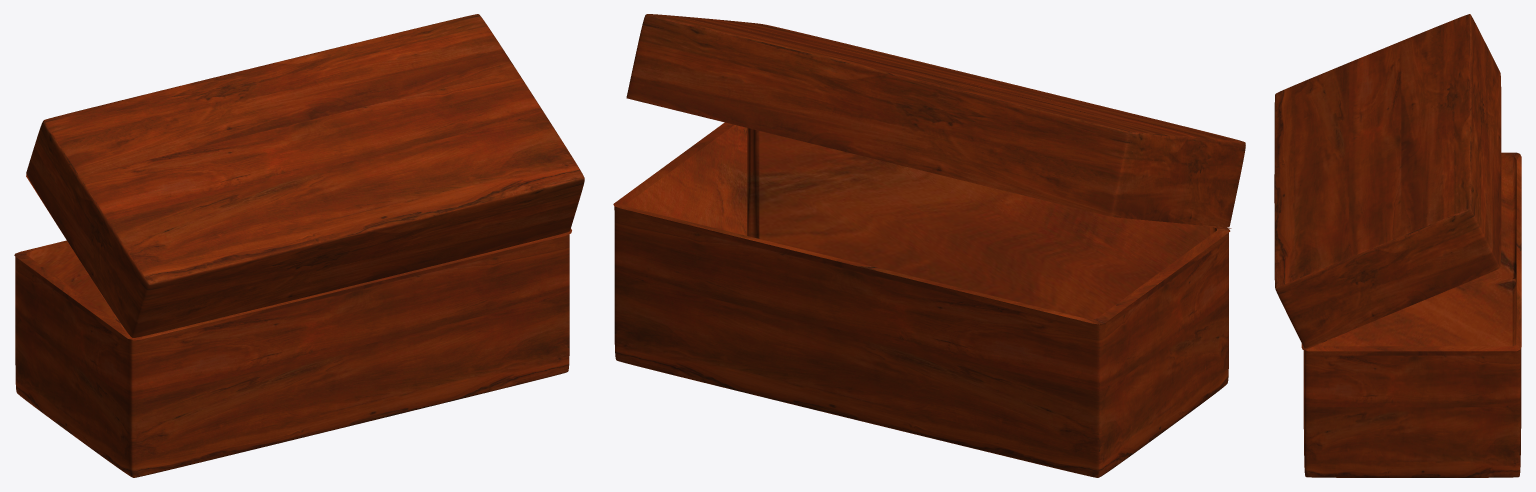
File: wooden_box_with_maori_carving.glb
3 renders of one model, left to right at view 1: azimuth 30°, elevation 25°; view 2: azimuth 150°, elevation 25°; view 3: azimuth 270°, elevation 25°, orthographic. The views are drawn at different scales.
Visible parts, largest first — view 1: top, bottom; view 2: bottom, top; view 3: top, bottom.
Boxes of the visible parts, x1,y1,x2,y2 form: top: (26, 14, 584, 340); bottom: (14, 234, 569, 477); bottom: (613, 122, 1230, 477); top: (626, 14, 1245, 228); top: (1274, 14, 1501, 349); bottom: (1303, 152, 1521, 477).
Bounding box in the file's own units: 3.95 × 2.52 × 2.08.
2 materials, 2 textured.
